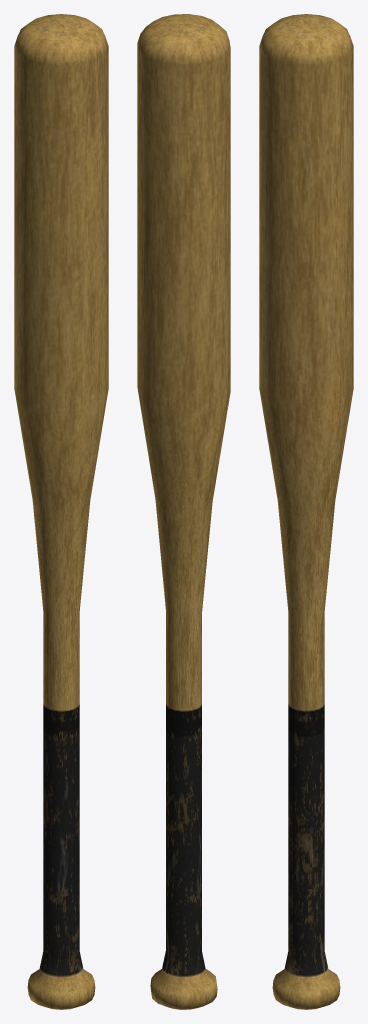
File: batte.glb
The picture shows the model from 3 angles, left to right: view 1: azimuth 90°, elevation 25°; view 2: azimuth 150°, elevation 25°; view 3: azimuth 270°, elevation 25°; orthographic projection.
Parts seen in each view (by area): view 1: BaseballBat; view 2: BaseballBat; view 3: BaseballBat.
Part boxes in pixels (bbox=[...]): BaseballBat: bbox=[14, 14, 108, 1009]; BaseballBat: bbox=[137, 14, 230, 1009]; BaseballBat: bbox=[259, 14, 353, 1009].
Size of the model in its own units: 0.0711 by 0.8121 by 0.0711.
1 material, 1 textured.
